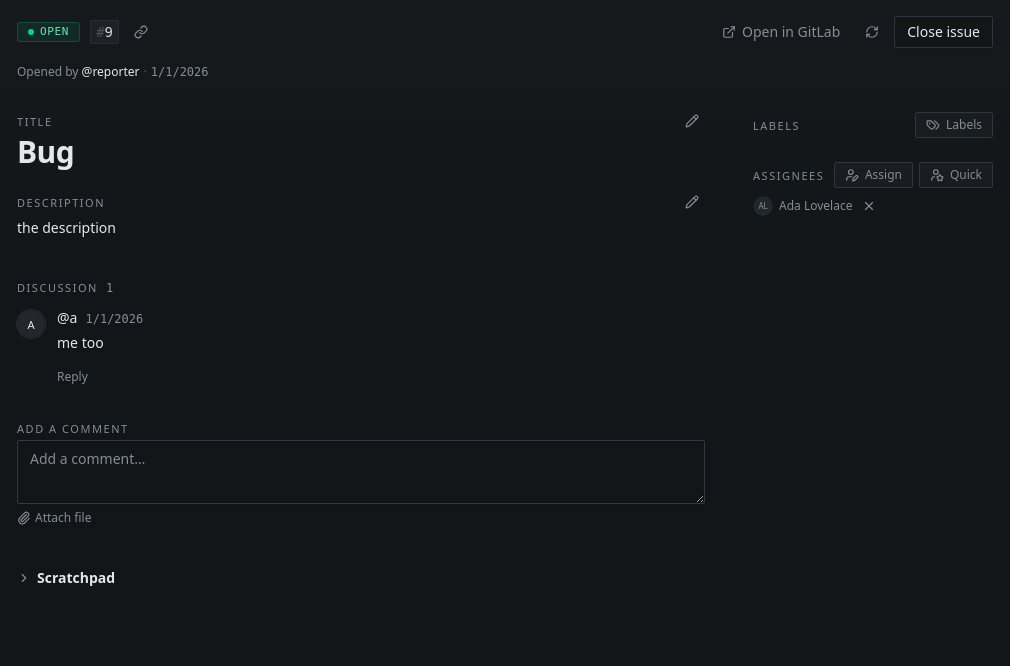
Test: IssueDetail (buffered) › reveals the description textarea when its Edit toggle is clicked
This screenshot has width=1010, height=666.
What coordinates should you click on to do the following:
click the button with test id "edit-description-toggle"
I would click on:
 (692, 202)
Its box is [679,193,705,211].
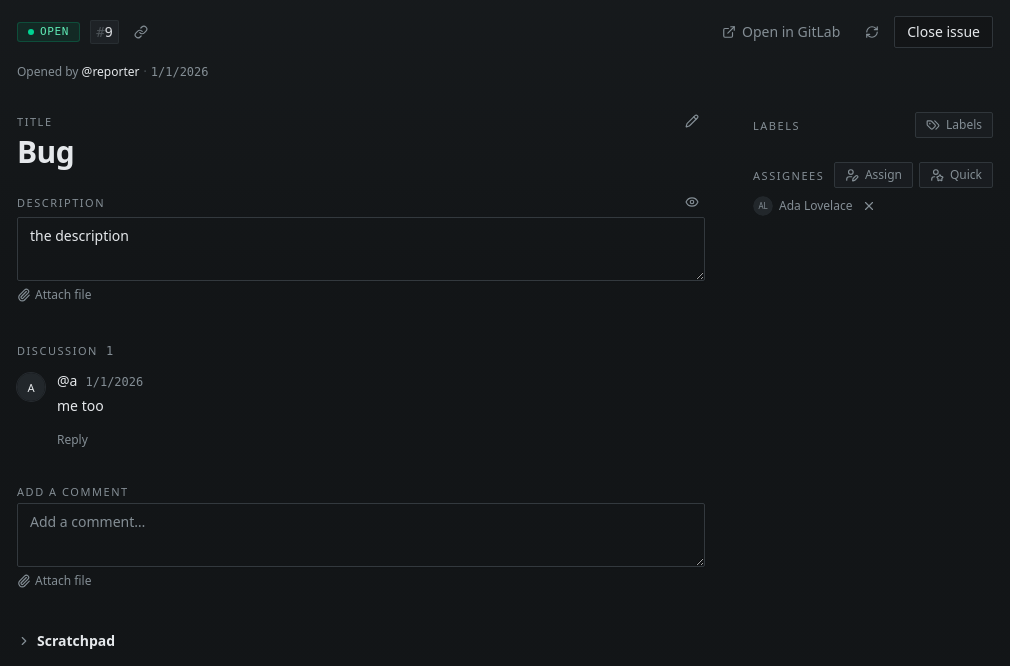
Result: the text box named "Issue description" is shown at [17,217,705,281]
